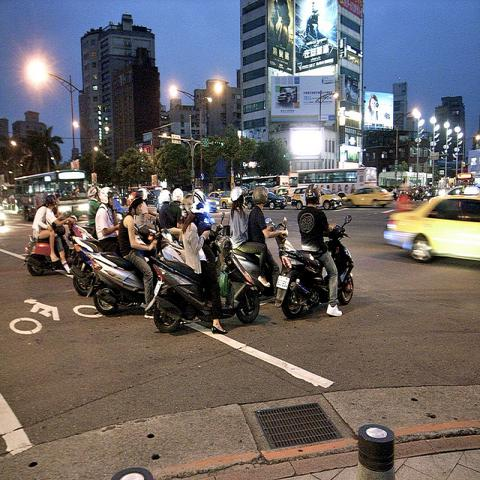bus: (11, 172, 90, 220), (297, 167, 366, 194), (242, 175, 290, 194)
car: (382, 197, 480, 268), (291, 183, 343, 210), (342, 186, 395, 206), (183, 192, 220, 212), (442, 184, 479, 199), (207, 192, 232, 212), (264, 191, 288, 209)
motorcycle: (154, 188, 428, 263), (144, 211, 261, 333), (275, 214, 355, 318), (232, 214, 298, 298), (84, 253, 145, 318), (66, 234, 102, 294), (22, 233, 61, 277), (207, 222, 222, 270), (135, 215, 156, 245), (71, 224, 100, 244), (114, 200, 126, 224)
